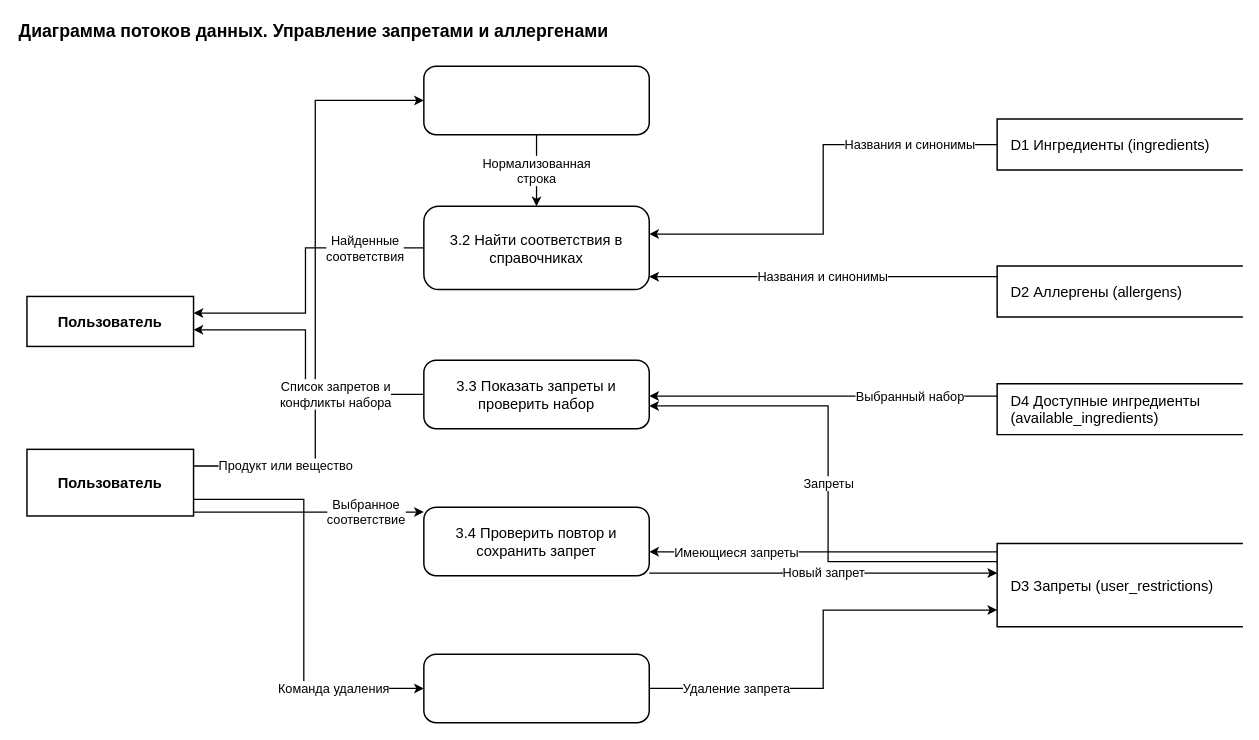
Image size: 1259x740. Some labels were removed from this diagram. Each missing label, with the centre of its shape:
3.1 Нормализовать введённую строку: pixel 536 100
3.5 Удалить запрет или очистить список: pixel 536 688
